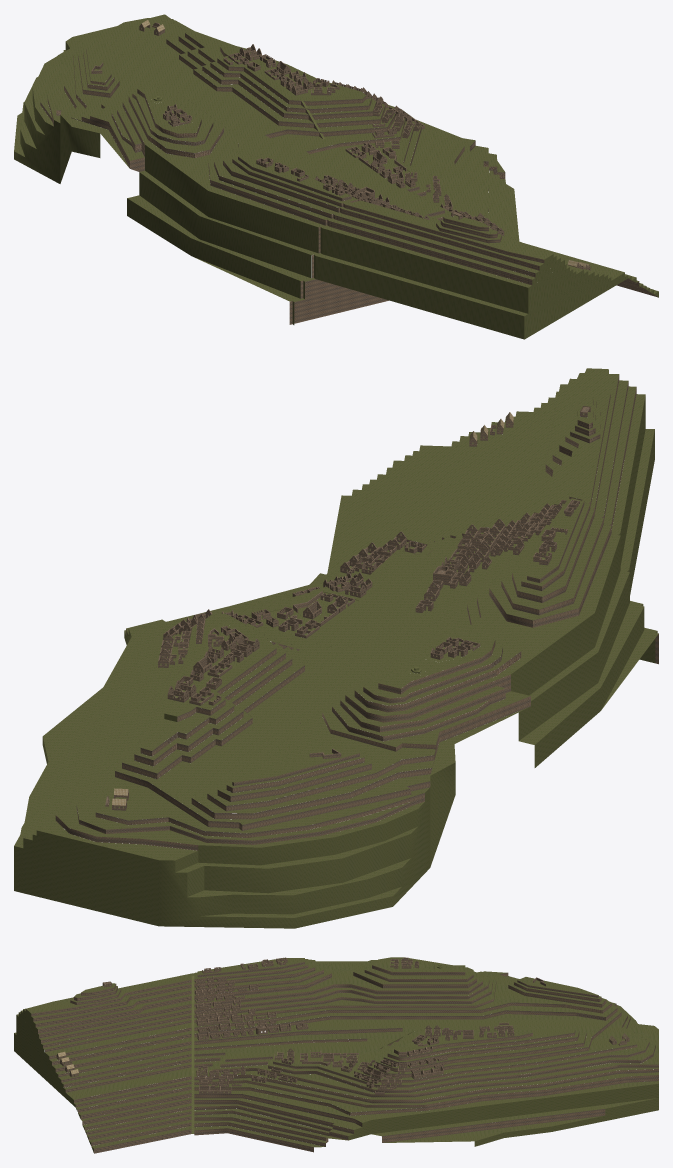
File: machu-picchu.glb
3 views of the same model, one above another, from view 1: azimuth 30°, elevation 25°; view 2: azimuth 150°, elevation 25°; view 3: azimuth 270°, elevation 25° (orthographic). The views are drawn at different scales.
Parts seen in each view (by area): view 1: GDLM1_Vegetation_HoneyLocus_GDLM1_Vegetation_HoneyLocus_0, GDLM2_Groundcover_RiverRock_GDLM2_Groundcover_RiverRock_0, GDLM3_Groundcover_BarkChips_GDLM3_Groundcover_BarkChips_0, GDLM8_Groundcover_Sand_Smoo_GDLM8_Groundcover_Sand_Smoo_0; view 2: GDLM1_Vegetation_HoneyLocus_GDLM1_Vegetation_HoneyLocus_0, GDLM2_Groundcover_RiverRock_GDLM2_Groundcover_RiverRock_0, GDLM3_Groundcover_BarkChips_GDLM3_Groundcover_BarkChips_0, GDLM8_Groundcover_Sand_Smoo_GDLM8_Groundcover_Sand_Smoo_0; view 3: GDLM1_Vegetation_HoneyLocus_GDLM1_Vegetation_HoneyLocus_0, GDLM2_Groundcover_RiverRock_GDLM2_Groundcover_RiverRock_0, GDLM3_Groundcover_BarkChips_GDLM3_Groundcover_BarkChips_0, GDLM8_Groundcover_Sand_Smoo_GDLM8_Groundcover_Sand_Smoo_0, GDLM4_Cladding_Siding_White_GDLM4_Cladding_Siding_White_0.
Boxes of the visible parts, x1,y1,x2,y2 form: GDLM1_Vegetation_HoneyLocus_GDLM1_Vegetation_HoneyLocus_0: (14,14,658,339); GDLM2_Groundcover_RiverRock_GDLM2_Groundcover_RiverRock_0: (40,33,658,324); GDLM3_Groundcover_BarkChips_GDLM3_Groundcover_BarkChips_0: (91,22,590,270); GDLM8_Groundcover_Sand_Smoo_GDLM8_Groundcover_Sand_Smoo_0: (151,68,410,179); GDLM1_Vegetation_HoneyLocus_GDLM1_Vegetation_HoneyLocus_0: (14,368,658,928); GDLM2_Groundcover_RiverRock_GDLM2_Groundcover_RiverRock_0: (23,375,658,850); GDLM3_Groundcover_BarkChips_GDLM3_Groundcover_BarkChips_0: (105,406,590,810); GDLM8_Groundcover_Sand_Smoo_GDLM8_Groundcover_Sand_Smoo_0: (196,592,477,678); GDLM1_Vegetation_HoneyLocus_GDLM1_Vegetation_HoneyLocus_0: (14,957,658,1152); GDLM2_Groundcover_RiverRock_GDLM2_Groundcover_RiverRock_0: (31,962,658,1153); GDLM3_Groundcover_BarkChips_GDLM3_Groundcover_BarkChips_0: (56,957,629,1094); GDLM8_Groundcover_Sand_Smoo_GDLM8_Groundcover_Sand_Smoo_0: (297,960,476,1073); GDLM4_Cladding_Siding_White_GDLM4_Cladding_Siding_White_0: (191,975,194,1078).
Size of the model in its own units: 0.4789 by 0.1667 by 1.
9 materials, 8 textured.
